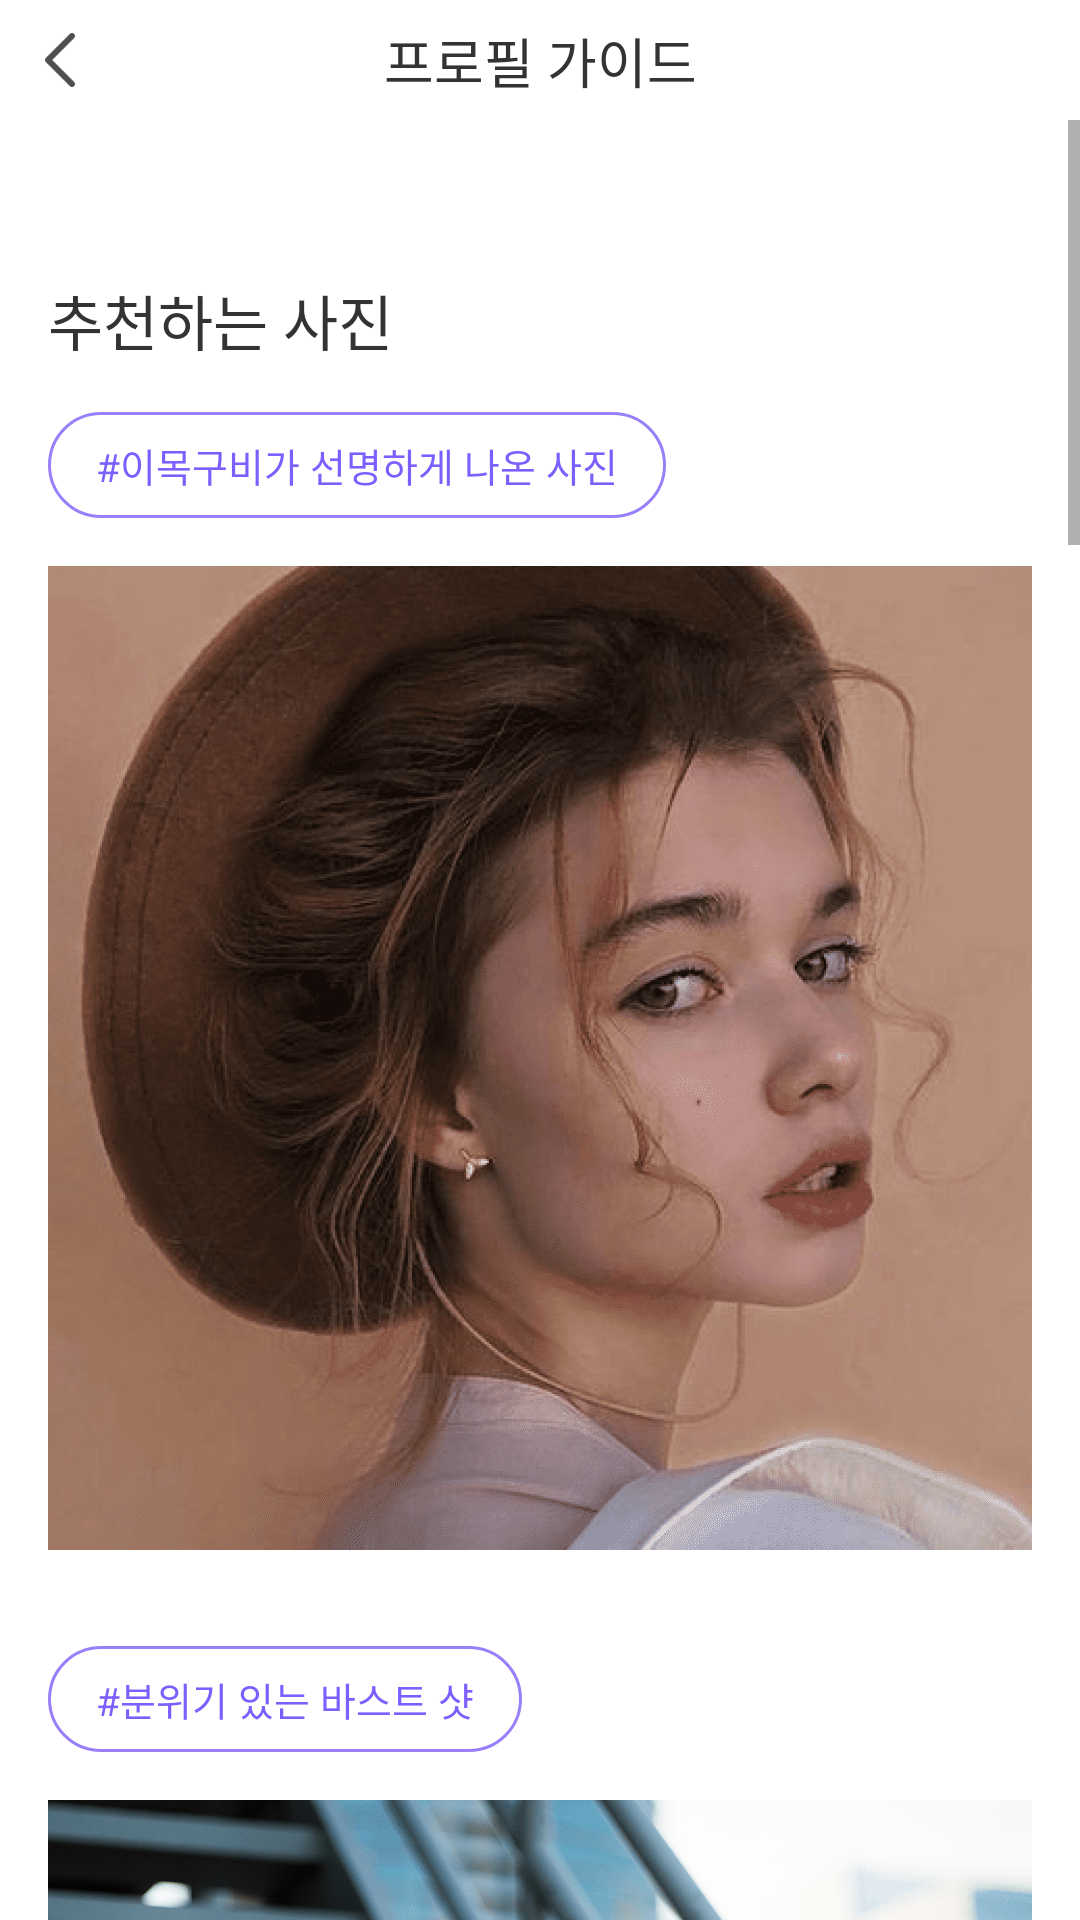

Named icons in this screenshot (1080px×1920px) and their bounding boxes, (x1, y1, x2, y2):
back: (45, 33, 75, 87)
